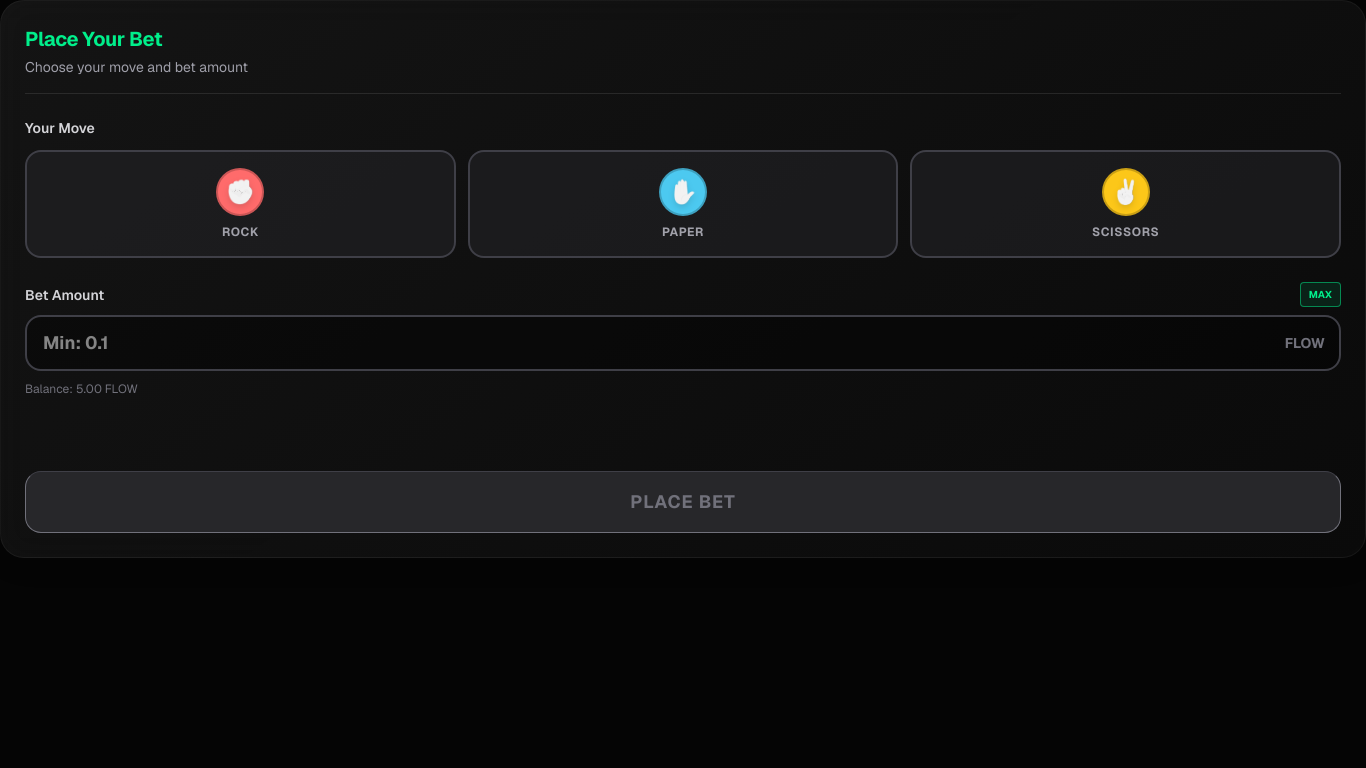
Test: BettingPanel › MAX Button › sets amount to balance when balance is less than maxBet
Click the button "MAX": (1320,294) [1300,282,1341,307]
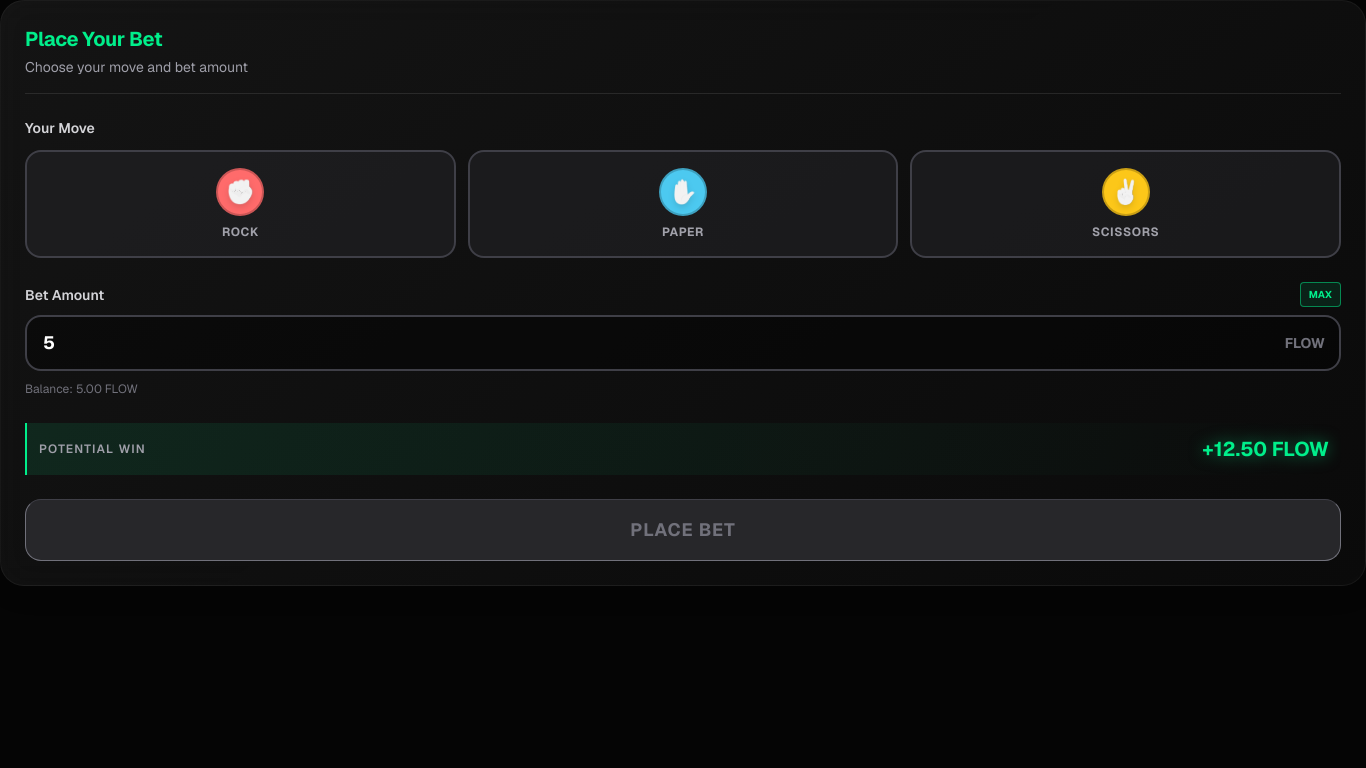
Expected: the field labelled "Bet Amount" holds "5", [25,315,1341,371]
